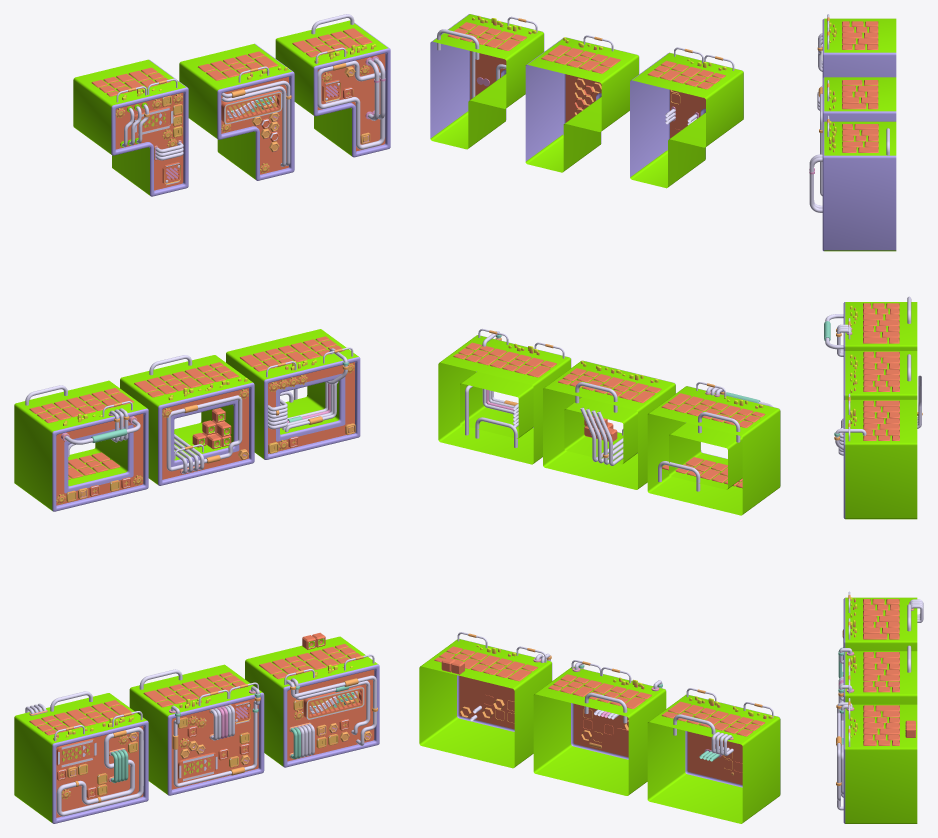
Rendered from BLOCK_A.fbx.
3 renders of one model, left to right at view 1: azimuth 30°, elevation 25°; view 2: azimuth 150°, elevation 25°; view 3: azimuth 270°, elevation 25°, orthographic. The views are drawn at different scales.
Visible parts, largest first — view 1: E_BLOCK_01_A, E_BLOCK_02_A, E_BLOCK_01_B, E_BLOCK_01_C, E_BLOCK_02_B, E_BLOCK_02_C, E_BLOCK_03_A, E_BLOCK_03_B, E_BLOCK_03_C; view 2: E_BLOCK_01_A, E_BLOCK_02_A, E_BLOCK_01_B, E_BLOCK_01_C, E_BLOCK_02_C, E_BLOCK_02_B, E_BLOCK_03_A, E_BLOCK_03_B, E_BLOCK_03_C; view 3: E_BLOCK_03_C, E_BLOCK_01_C, E_BLOCK_02_C, E_BLOCK_03_A, E_BLOCK_01_B, E_BLOCK_01_A, E_BLOCK_02_A, E_BLOCK_02_B, E_BLOCK_03_B.
Boxes of the visible parts, bbox=[...] form: E_BLOCK_01_A: bbox=[14, 691, 148, 823]; E_BLOCK_02_A: bbox=[14, 380, 148, 511]; E_BLOCK_01_B: bbox=[129, 664, 264, 795]; E_BLOCK_01_C: bbox=[245, 632, 379, 767]; E_BLOCK_02_B: bbox=[120, 355, 254, 485]; E_BLOCK_02_C: bbox=[226, 329, 360, 459]; E_BLOCK_03_A: bbox=[73, 59, 188, 196]; E_BLOCK_03_B: bbox=[179, 43, 294, 180]; E_BLOCK_03_C: bbox=[275, 14, 390, 157]; E_BLOCK_01_A: bbox=[647, 688, 780, 823]; E_BLOCK_02_A: bbox=[647, 382, 780, 515]; E_BLOCK_01_B: bbox=[533, 660, 666, 795]; E_BLOCK_01_C: bbox=[419, 632, 552, 768]; E_BLOCK_02_C: bbox=[438, 328, 571, 464]; E_BLOCK_02_B: bbox=[543, 360, 675, 489]; E_BLOCK_03_A: bbox=[630, 47, 743, 188]; E_BLOCK_03_B: bbox=[525, 35, 639, 172]; E_BLOCK_03_C: bbox=[430, 14, 544, 149]; E_BLOCK_03_C: bbox=[809, 115, 896, 251]; E_BLOCK_01_C: bbox=[836, 698, 917, 823]; E_BLOCK_02_C: bbox=[834, 393, 917, 519]; E_BLOCK_03_A: bbox=[817, 14, 896, 110]; E_BLOCK_01_B: bbox=[838, 645, 917, 704]; E_BLOCK_01_A: bbox=[838, 591, 923, 696]; E_BLOCK_02_A: bbox=[824, 296, 917, 356]; E_BLOCK_02_B: bbox=[841, 351, 922, 428]; E_BLOCK_03_B: bbox=[818, 77, 896, 196].
Size of what is drawn, in the model's own units: 3400 by 7200 by 1084.
